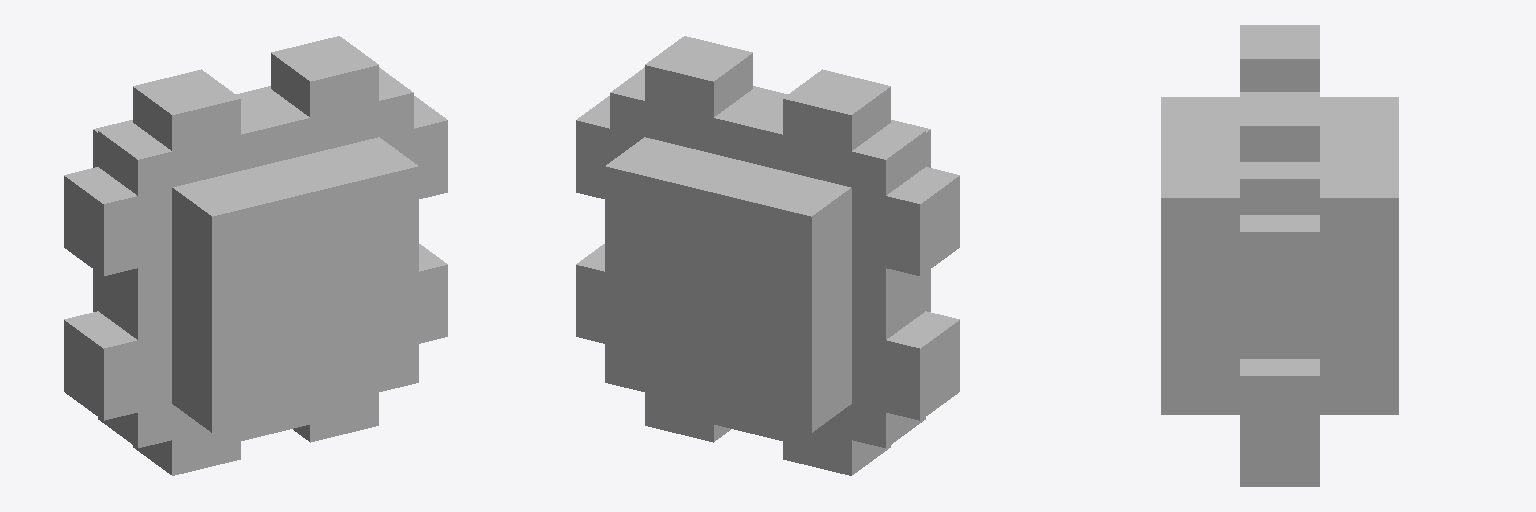
The model's file is sun.obj.
The picture shows the model from 3 angles: view 1: azimuth 30°, elevation 25°; view 2: azimuth 150°, elevation 25°; view 3: azimuth 270°, elevation 25°; orthographic projection.
Visible parts, largest first — view 1: object 1; view 2: object 1; view 3: object 1.
Part boxes in pixels (x1,y1,x2,y2): object 1: (64, 36, 447, 475); object 1: (576, 36, 959, 475); object 1: (1161, 25, 1398, 486).
Size of the model in its own units: 2 by 2 by 1.2.